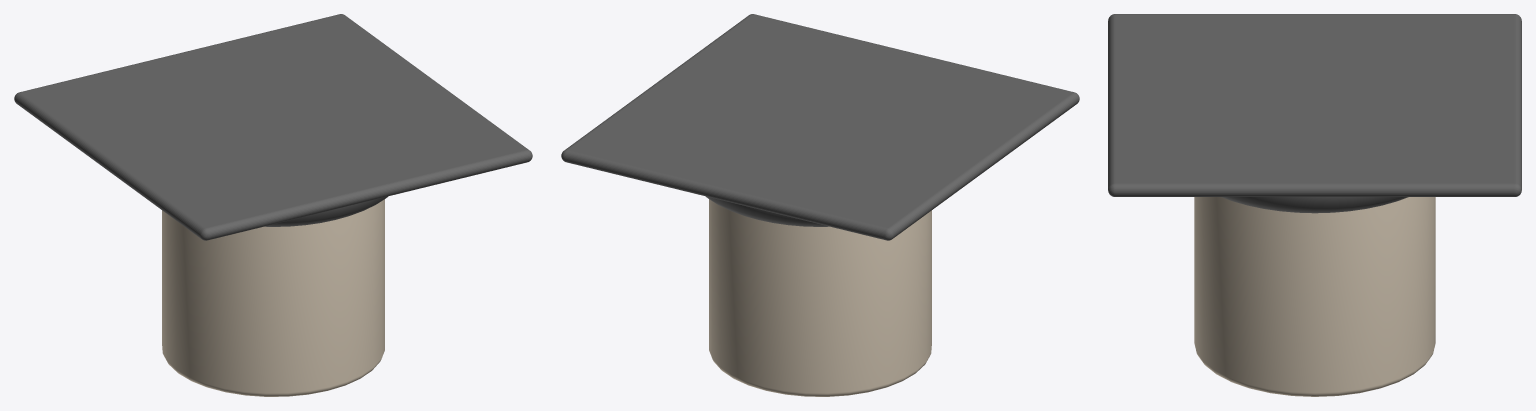
File: Foco.fbx
3 views of the same model, side by side, from view 1: azimuth 30°, elevation 25°; view 2: azimuth 150°, elevation 25°; view 3: azimuth 270°, elevation 25° (orthographic). The views are drawn at different scales.
Parts seen in each view (by area): view 1: Cylinder; view 2: Cylinder; view 3: Cylinder.
Part boxes in pixels (x1,y1,x2,y2): Cylinder: (14, 14, 532, 396); Cylinder: (561, 14, 1079, 396); Cylinder: (1108, 14, 1521, 396).
Bounding box in the file's own units: 343 × 228 × 343.
